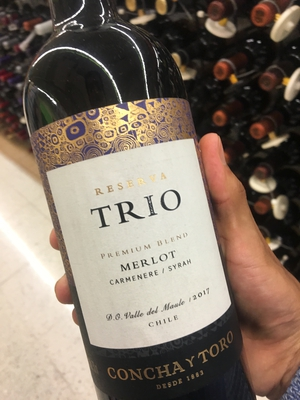trio merlot: (16, 22, 263, 390)
